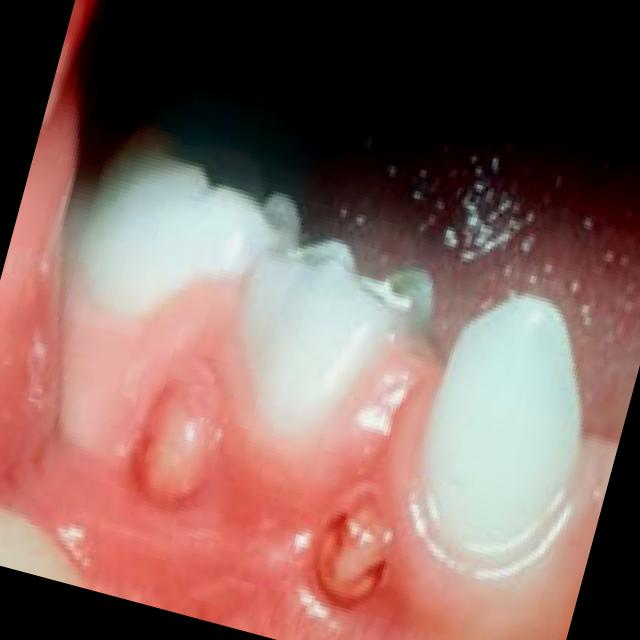abscess: (104, 338, 258, 528), (276, 469, 423, 632)
